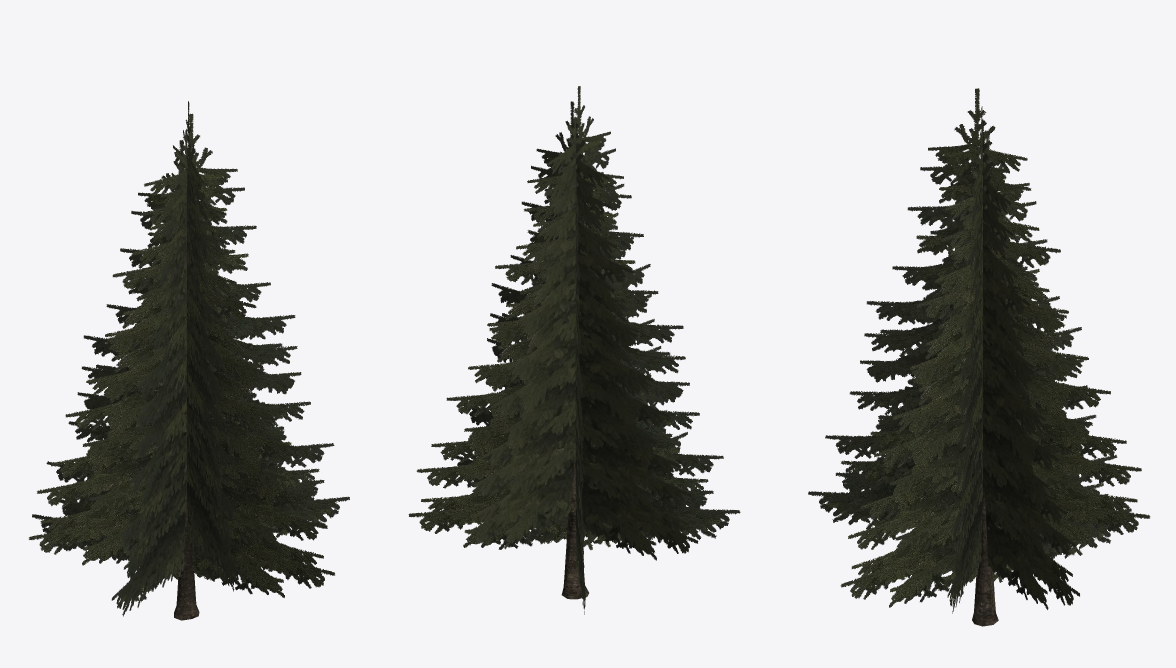
Rendered from tree_rt_3.glb.
The picture shows the model from 3 angles, left to right: view 1: azimuth 30°, elevation 25°; view 2: azimuth 150°, elevation 25°; view 3: azimuth 270°, elevation 25°; orthographic projection. The views are drawn at different scales.
Parts seen in each view (by area): view 1: tree_rt_3; view 2: tree_rt_3; view 3: tree_rt_3.
Part boxes in pixels (box(x1,y1,x2,y2)): tree_rt_3: box(29, 101, 349, 620); tree_rt_3: box(408, 86, 740, 614); tree_rt_3: box(808, 88, 1150, 626).
Bounding box in the file's own units: 2.43 × 3.93 × 2.43.
Materials: 2 (2 with a texture image).
